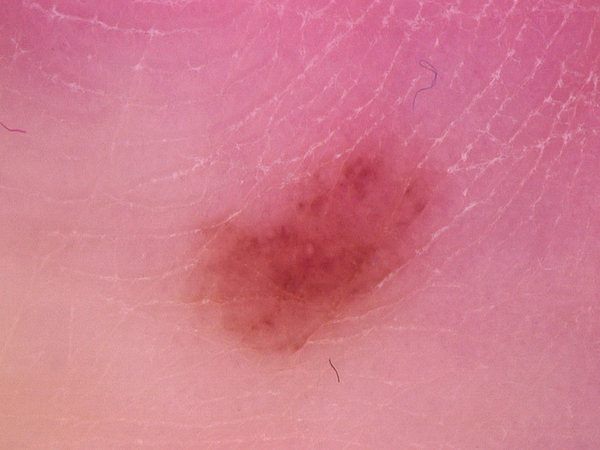Detected Lesion: (175, 139, 439, 354)
